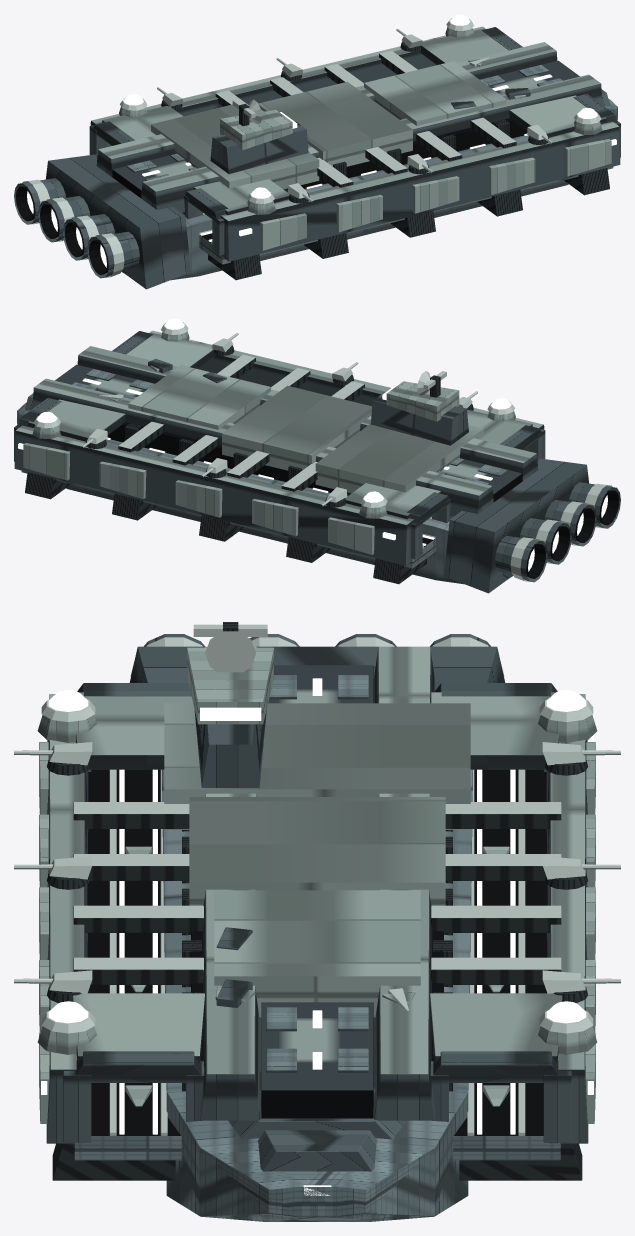
Rendered from carrier.glb.
3 views of the same model, one above another, from view 1: azimuth 30°, elevation 25°; view 2: azimuth 150°, elevation 25°; view 3: azimuth 270°, elevation 25° (orthographic). The views are drawn at different scales.
Parts seen in each view (by area): view 1: hull_body, engine_block, sensor_island, shield_domes, weapon_turrets; view 2: hull_body, engine_block, sensor_island, shield_domes, weapon_turrets; view 3: hull_body, sensor_island, shield_domes, engine_block, weapon_turrets.
Boxes of the visible parts, <box> form: hull_body: <box>89,26,620,280</box>; engine_block: <box>14,154,190,289</box>; sensor_island: <box>210,99,308,173</box>; shield_domes: <box>119,14,602,214</box>; weapon_turrets: <box>157,29,553,203</box>; hull_body: <box>14,330,545,584</box>; engine_block: <box>444,458,620,593</box>; sensor_island: <box>370,371,468,445</box>; shield_domes: <box>32,318,515,518</box>; weapon_turrets: <box>81,333,477,507</box>; hull_body: <box>39,646,595,1221</box>; sensor_island: <box>187,622,273,787</box>; shield_domes: <box>37,690,597,1054</box>; engine_block: <box>129,634,505,690</box>; weapon_turrets: <box>14,742,620,1002</box>.
Bounding box in the file's own units: 55 × 14.24 × 27.19.
1 material, 1 textured.
